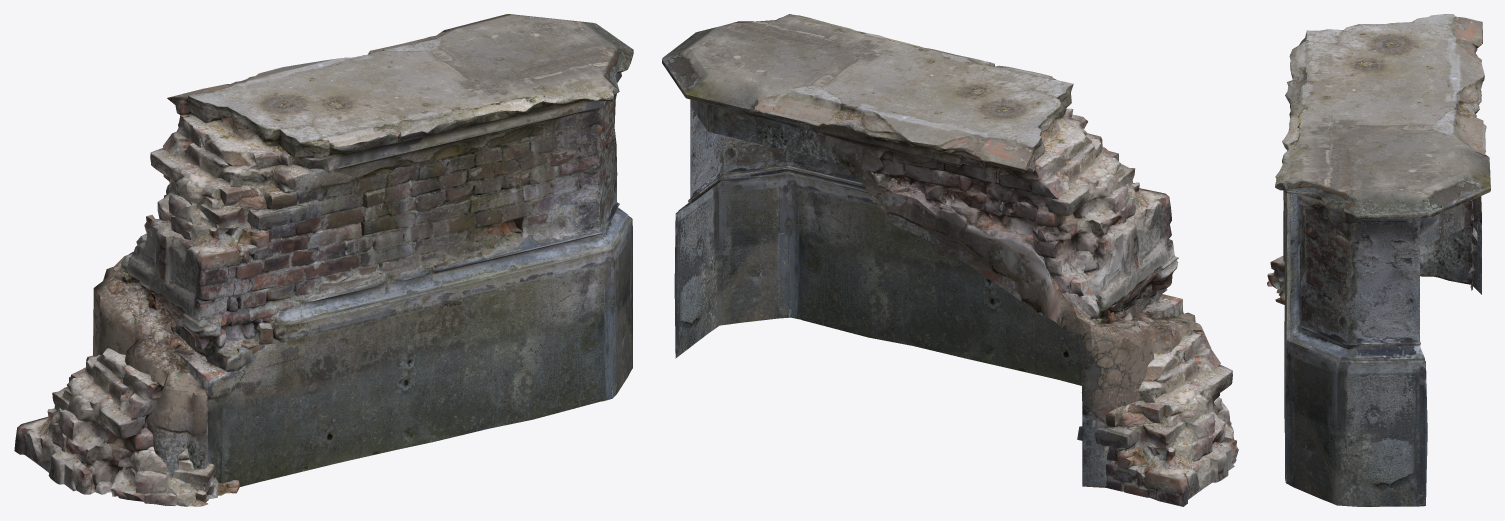
Rendered from SM_ChapelWall_06_02.fbx.
3 views of the same model, side by side, from view 1: azimuth 30°, elevation 25°; view 2: azimuth 150°, elevation 25°; view 3: azimuth 270°, elevation 25° (orthographic). The views are drawn at different scales.
Parts seen in each view (by area): view 1: sm_ChapelWall_06_02_LOD0; view 2: sm_ChapelWall_06_02_LOD0; view 3: sm_ChapelWall_06_02_LOD0.
Part boxes in pixels (x1,y1,x2,y2): sm_ChapelWall_06_02_LOD0: (14,14,633,506); sm_ChapelWall_06_02_LOD0: (662,14,1238,506); sm_ChapelWall_06_02_LOD0: (1267,14,1490,506).
Size of the model in its own units: 133 by 372 by 205.
